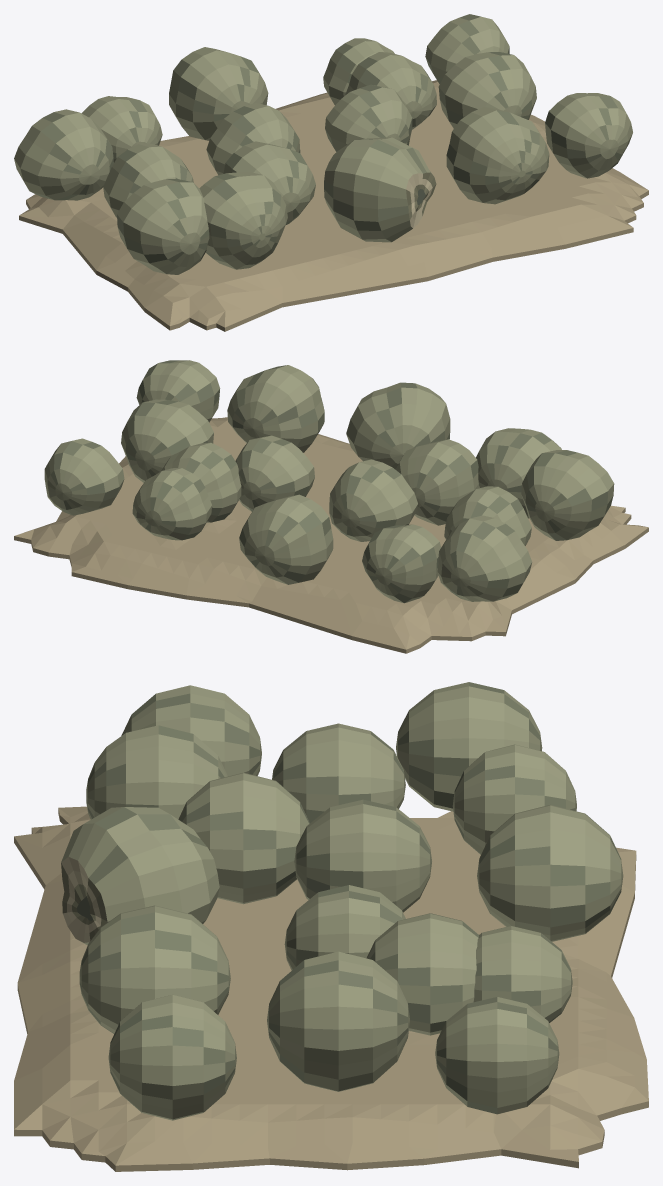
3 renders of one model, top to bottom at view 1: azimuth 30°, elevation 25°; view 2: azimuth 150°, elevation 25°; view 3: azimuth 270°, elevation 25°, orthographic. The views are drawn at different scales.
Visible parts, largest first — view 1: sixteen-separated-oncoids-and-quiet-contact-bed; view 2: sixteen-separated-oncoids-and-quiet-contact-bed; view 3: sixteen-separated-oncoids-and-quiet-contact-bed.
Boxes of the visible parts, x1,y1,x2,y2 form: sixteen-separated-oncoids-and-quiet-contact-bed: (14,14,648,331); sixteen-separated-oncoids-and-quiet-contact-bed: (14,360,648,653); sixteen-separated-oncoids-and-quiet-contact-bed: (14,682,648,1171).
Size of the model in its own units: 0.2448 by 0.0526 by 0.18.
